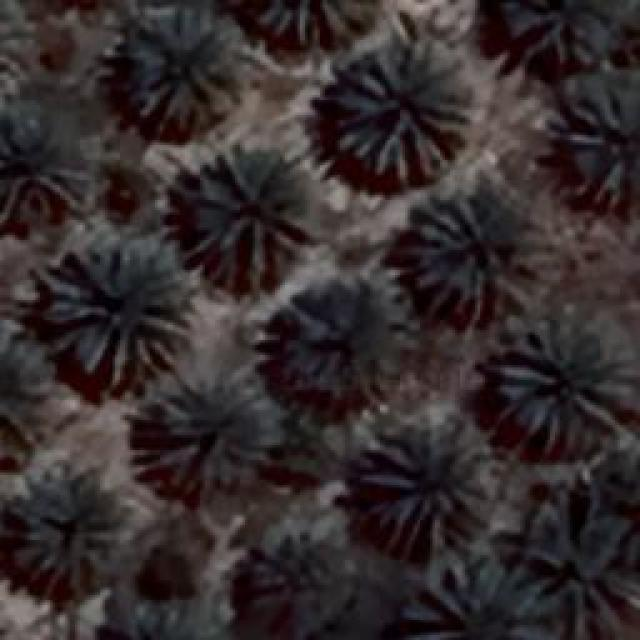PalmTree: (40, 240, 190, 390), (175, 142, 310, 288), (332, 45, 472, 185), (405, 190, 553, 320), (132, 372, 280, 498), (498, 320, 638, 452), (360, 422, 492, 550), (528, 492, 638, 632), (128, 8, 245, 132), (14, 480, 118, 590), (286, 296, 394, 386), (246, 540, 346, 635), (422, 557, 532, 640), (568, 90, 638, 210), (0, 120, 80, 215), (0, 318, 50, 469), (507, 0, 617, 62), (98, 586, 218, 640), (255, 0, 375, 48), (0, 0, 46, 107)
